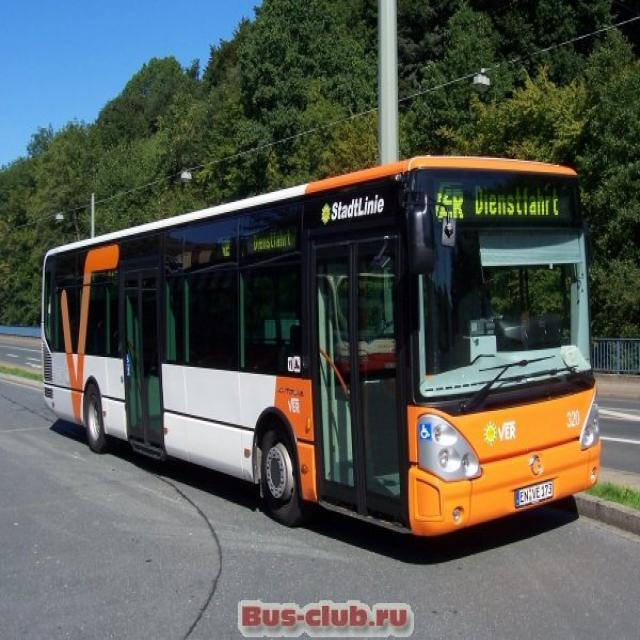bus: (39, 151, 606, 543)
